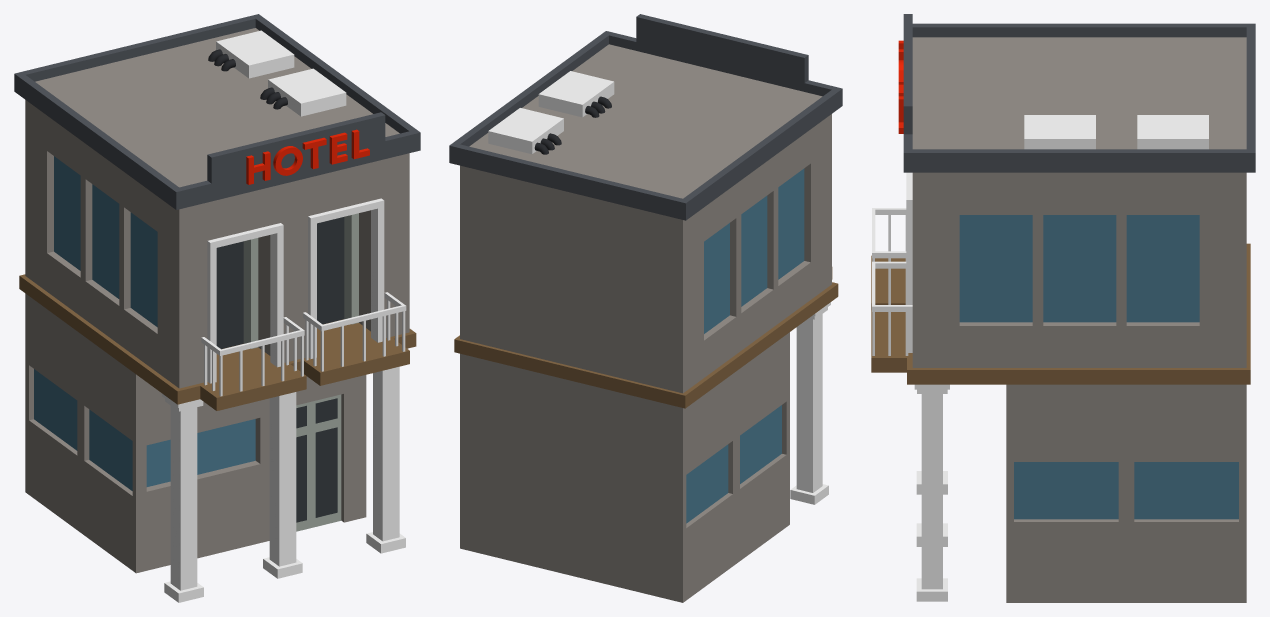
File: Hotel_2.fbx
3 renders of one model, left to right at view 1: azimuth 30°, elevation 25°; view 2: azimuth 150°, elevation 25°; view 3: azimuth 270°, elevation 25°, orthographic. The views are drawn at different scales.
Visible parts, largest first — view 1: Hotel_2; view 2: Hotel_2; view 3: Hotel_2.
Boxes of the visible parts, x1=… form: Hotel_2: x1=14, y1=14, x2=420, y2=602; Hotel_2: x1=449, y1=14, x2=842, y2=602; Hotel_2: x1=871, y1=14, x2=1255, y2=602.
Bounding box in the file's own units: 713 × 1236 × 893.
